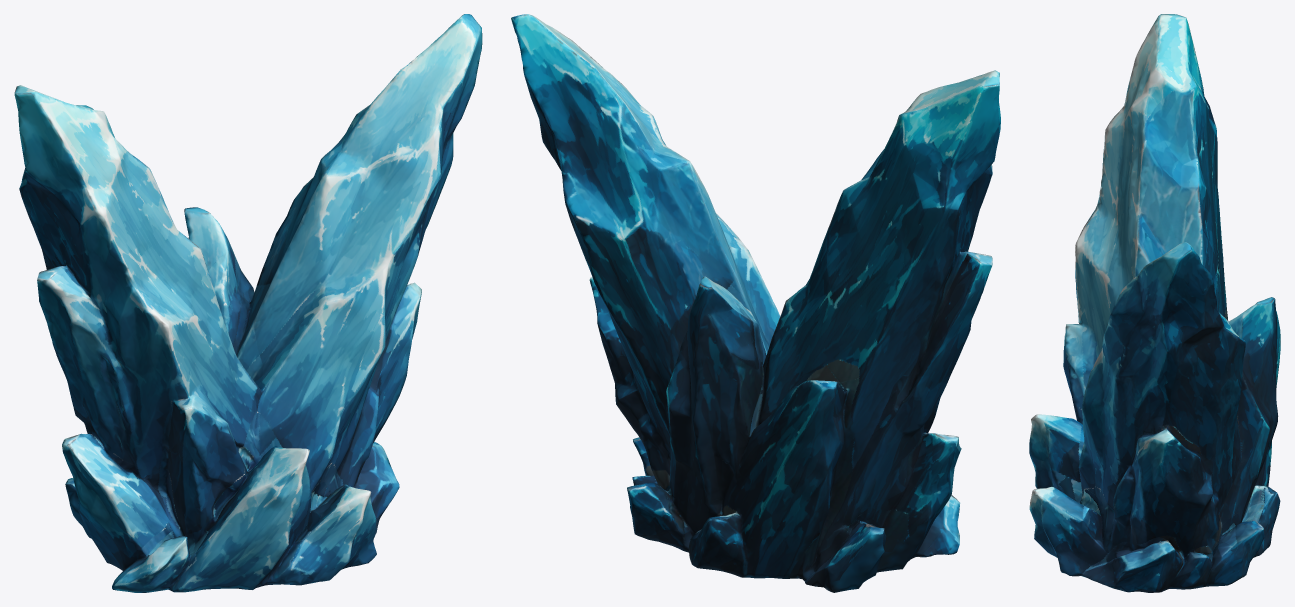
Rendered from IceSpike_02.fbx.
The picture shows the model from 3 angles, left to right: view 1: azimuth 30°, elevation 25°; view 2: azimuth 150°, elevation 25°; view 3: azimuth 270°, elevation 25°; orthographic projection. The views are drawn at different scales.
Parts seen in each view (by area): view 1: texture_mapping; view 2: texture_mapping; view 3: texture_mapping.
Boxes of the visible parts, x1=… form: texture_mapping: x1=14, y1=14, x2=482, y2=592; texture_mapping: x1=511, y1=14, x2=1000, y2=592; texture_mapping: x1=1029, y1=14, x2=1280, y2=592.
Size of the model in its own units: 0.9766 by 0.5147 by 0.9899.
1 material, 1 textured.
